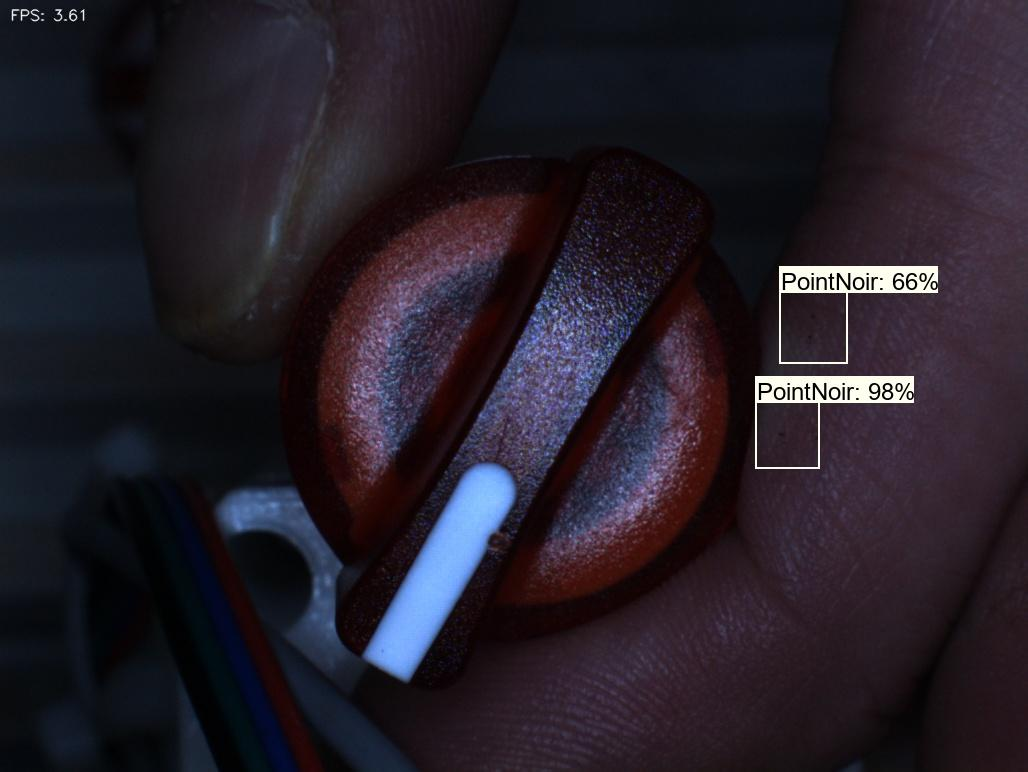Choc: (475, 518, 547, 594)
